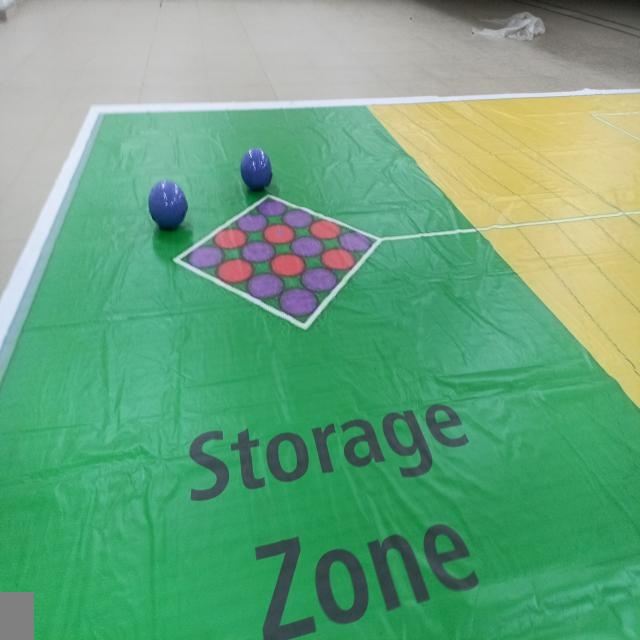purple_ball: (149, 179, 188, 232), (240, 146, 273, 192)
